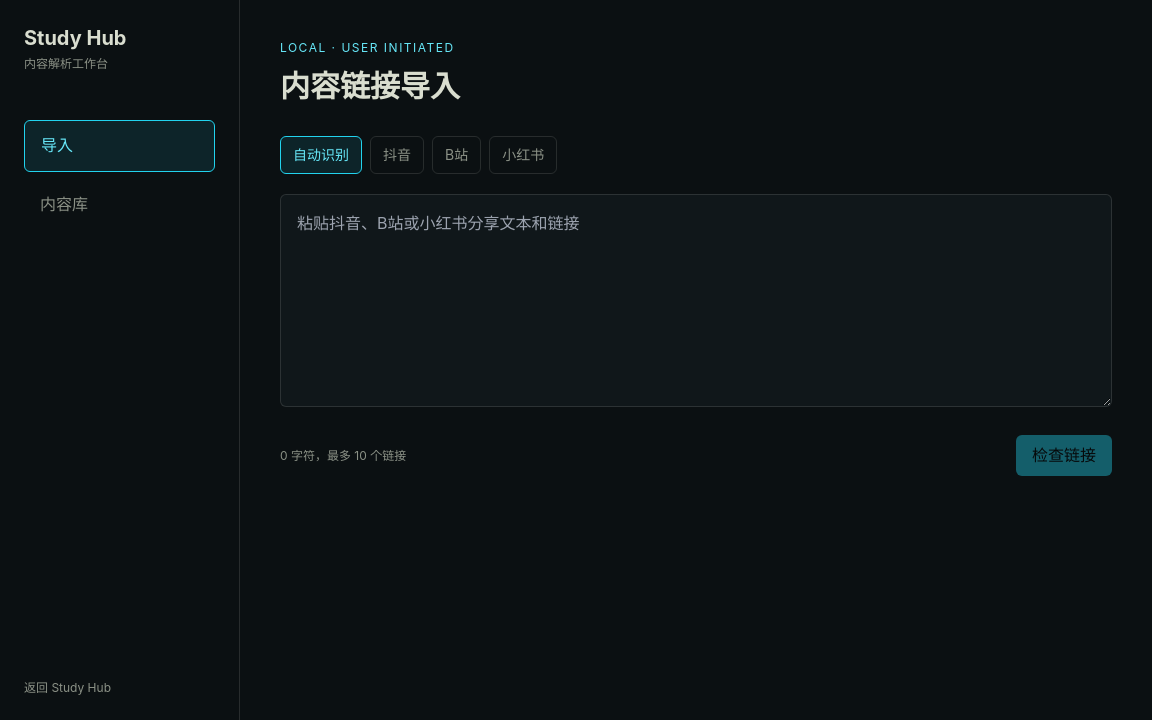
Scenario: ContentParser › shows an ASR error code when opening a fallback document
Click the button "内容库" at (120, 204), box [24,180,215,229]
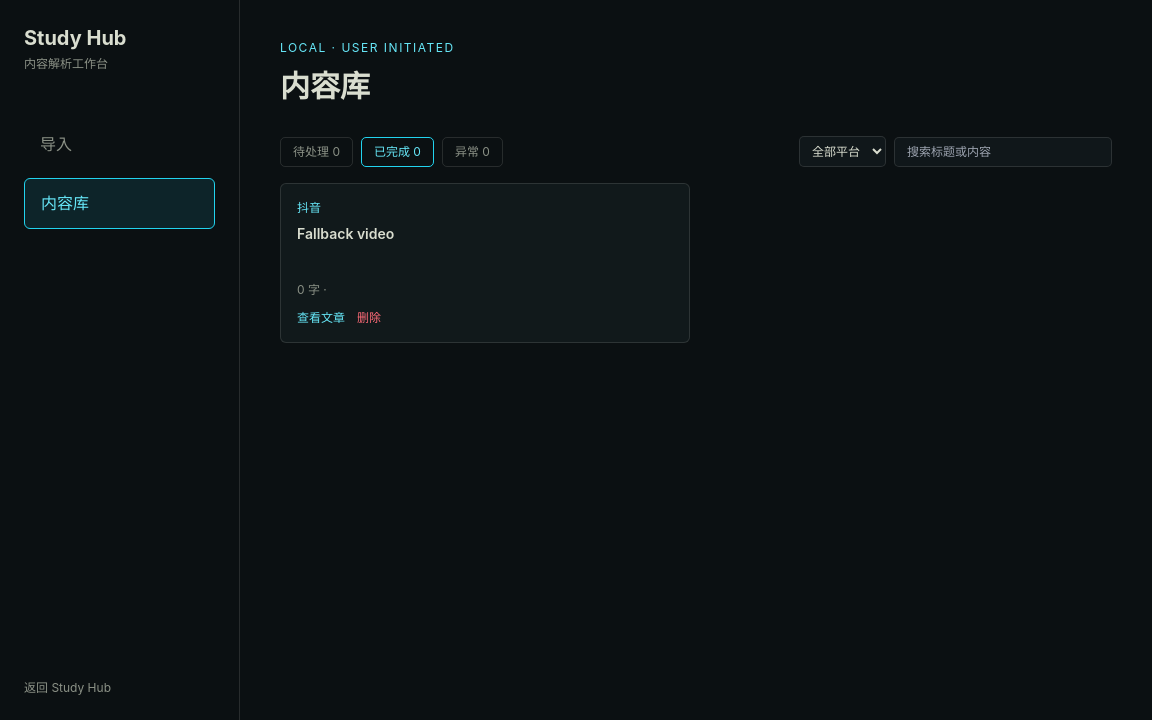
Click the button "查看文章" at (321, 318), box [297,310,345,326]
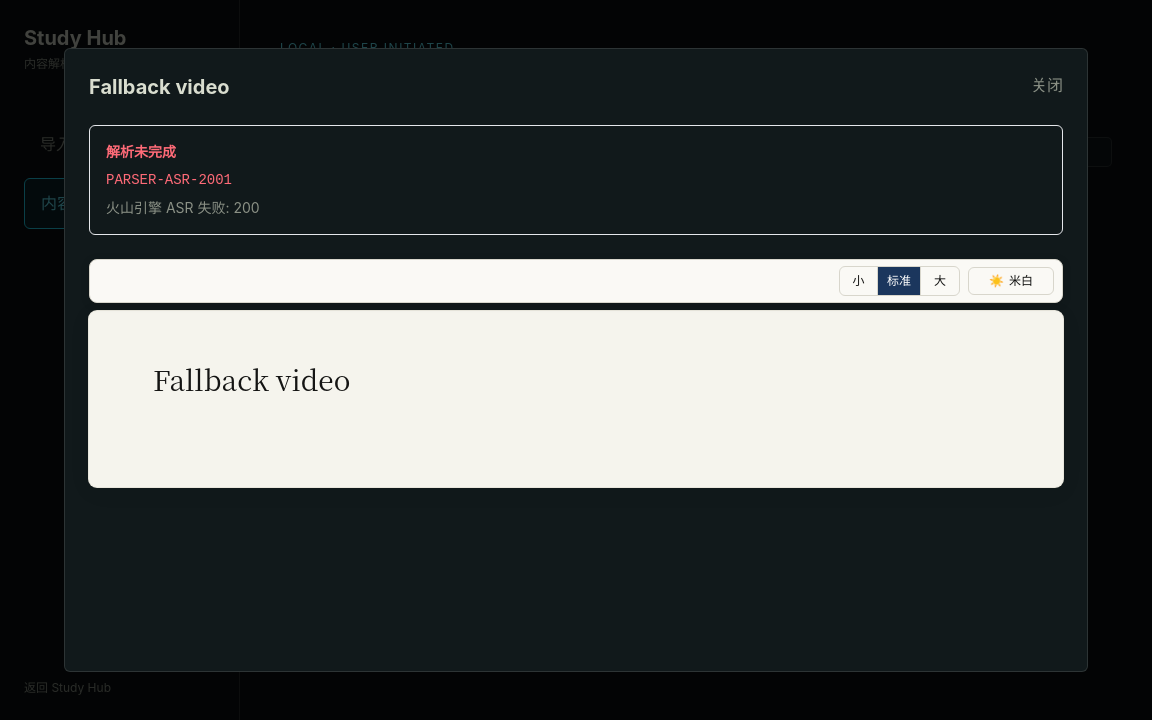
expect the text "PARSER-ASR-2001" is shown: met, box [106,172,232,188]
expect the text "火山引擎 ASR 失败: 200" is shown: met, box [106,199,260,216]
